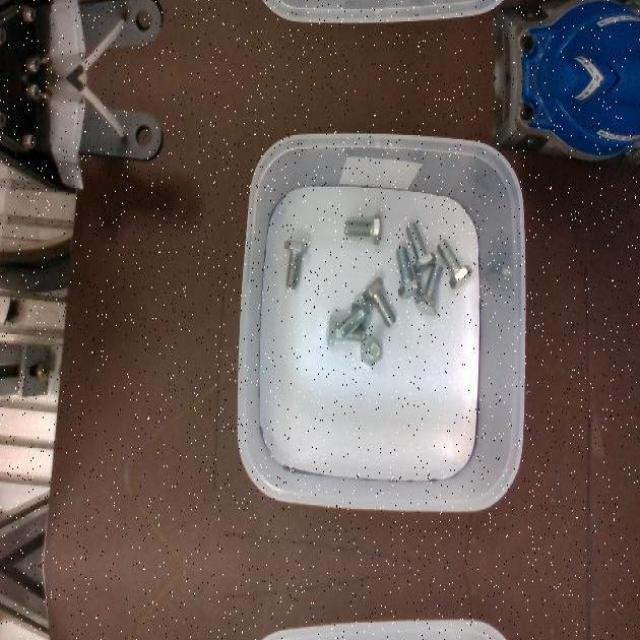screw: (438, 239, 473, 289), (362, 276, 395, 327), (406, 220, 436, 272), (414, 262, 443, 315), (336, 298, 372, 340), (395, 244, 422, 298), (283, 240, 308, 288), (344, 213, 382, 244), (360, 335, 383, 366)
